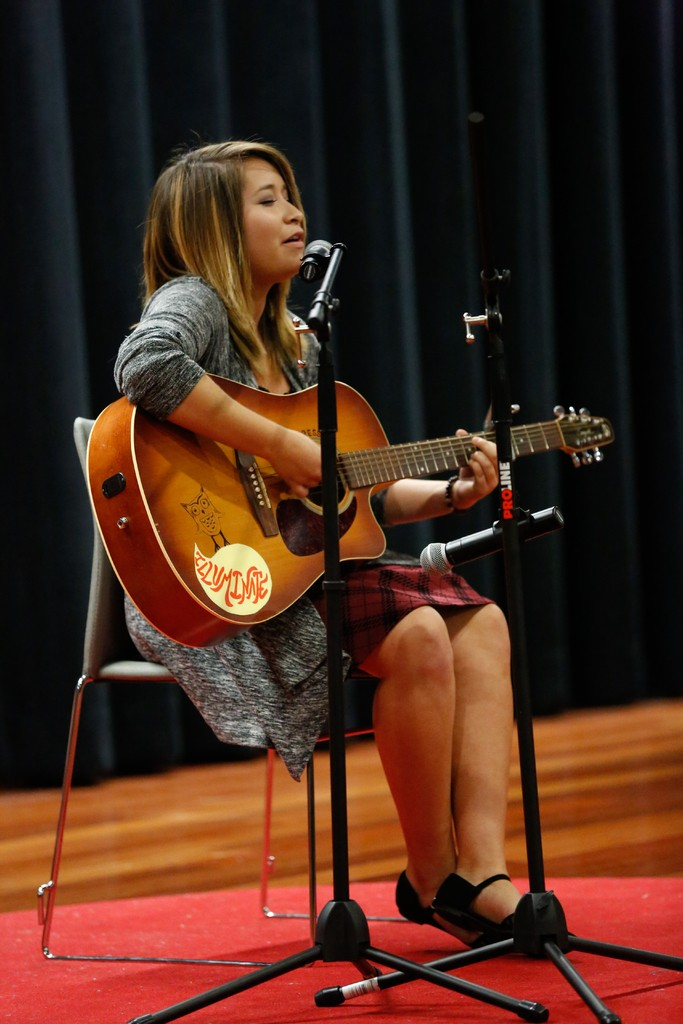guitar: (89, 364, 621, 652)
